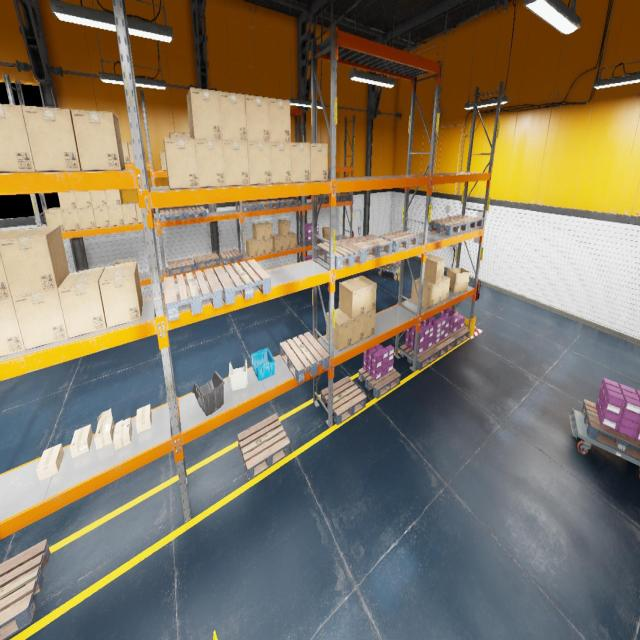box: (0, 225, 69, 296), (22, 106, 81, 172), (57, 267, 106, 338), (12, 289, 68, 350), (71, 109, 125, 171), (99, 261, 143, 328), (0, 104, 36, 172), (186, 87, 222, 140), (163, 138, 199, 189), (0, 297, 25, 356), (195, 140, 225, 187), (219, 91, 247, 141), (222, 141, 250, 186), (0, 230, 18, 300), (245, 95, 270, 142), (326, 308, 352, 351), (247, 141, 272, 184), (36, 443, 64, 481), (339, 279, 365, 318), (268, 98, 290, 142), (352, 276, 376, 314), (270, 142, 292, 183), (340, 309, 364, 345), (94, 408, 114, 450), (291, 142, 310, 183), (70, 424, 92, 458), (411, 278, 435, 309), (310, 143, 327, 181), (424, 254, 445, 284), (113, 418, 132, 450), (446, 267, 469, 293), (424, 279, 443, 305), (44, 208, 65, 231), (61, 208, 81, 230), (136, 404, 151, 433), (77, 207, 96, 229), (121, 202, 138, 224), (364, 309, 376, 339), (93, 206, 110, 227), (108, 205, 124, 226), (58, 192, 76, 210), (74, 191, 92, 208), (90, 190, 107, 207), (105, 190, 123, 206), (245, 238, 258, 257), (441, 276, 450, 301), (252, 222, 264, 240), (261, 222, 272, 240), (278, 234, 290, 250), (272, 234, 283, 251), (278, 219, 289, 236), (135, 201, 143, 223), (122, 142, 130, 163), (160, 151, 167, 170), (265, 238, 273, 254), (128, 142, 134, 163), (257, 240, 265, 255), (112, 260, 134, 265), (322, 227, 330, 240), (290, 232, 296, 248), (169, 132, 182, 138), (181, 132, 190, 138)
pallets: (0, 539, 50, 639), (582, 400, 640, 460), (238, 414, 290, 480), (164, 269, 223, 321), (213, 260, 270, 304), (280, 332, 329, 383), (321, 376, 366, 425), (317, 240, 365, 270), (358, 368, 401, 398), (344, 235, 392, 260), (400, 344, 438, 370), (378, 230, 419, 252), (428, 218, 468, 235), (446, 214, 484, 230), (430, 335, 455, 357), (167, 258, 195, 276), (193, 253, 220, 269), (448, 327, 470, 346), (160, 208, 184, 222), (219, 249, 241, 264), (182, 207, 206, 219), (256, 200, 279, 210), (238, 202, 260, 212), (380, 261, 400, 271), (276, 199, 298, 208), (300, 237, 321, 246), (318, 194, 337, 202), (336, 193, 351, 200)
